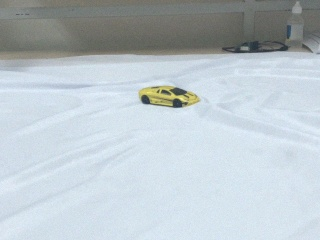bottle: (285, 1, 304, 49)
toy_car: (139, 85, 200, 108)
